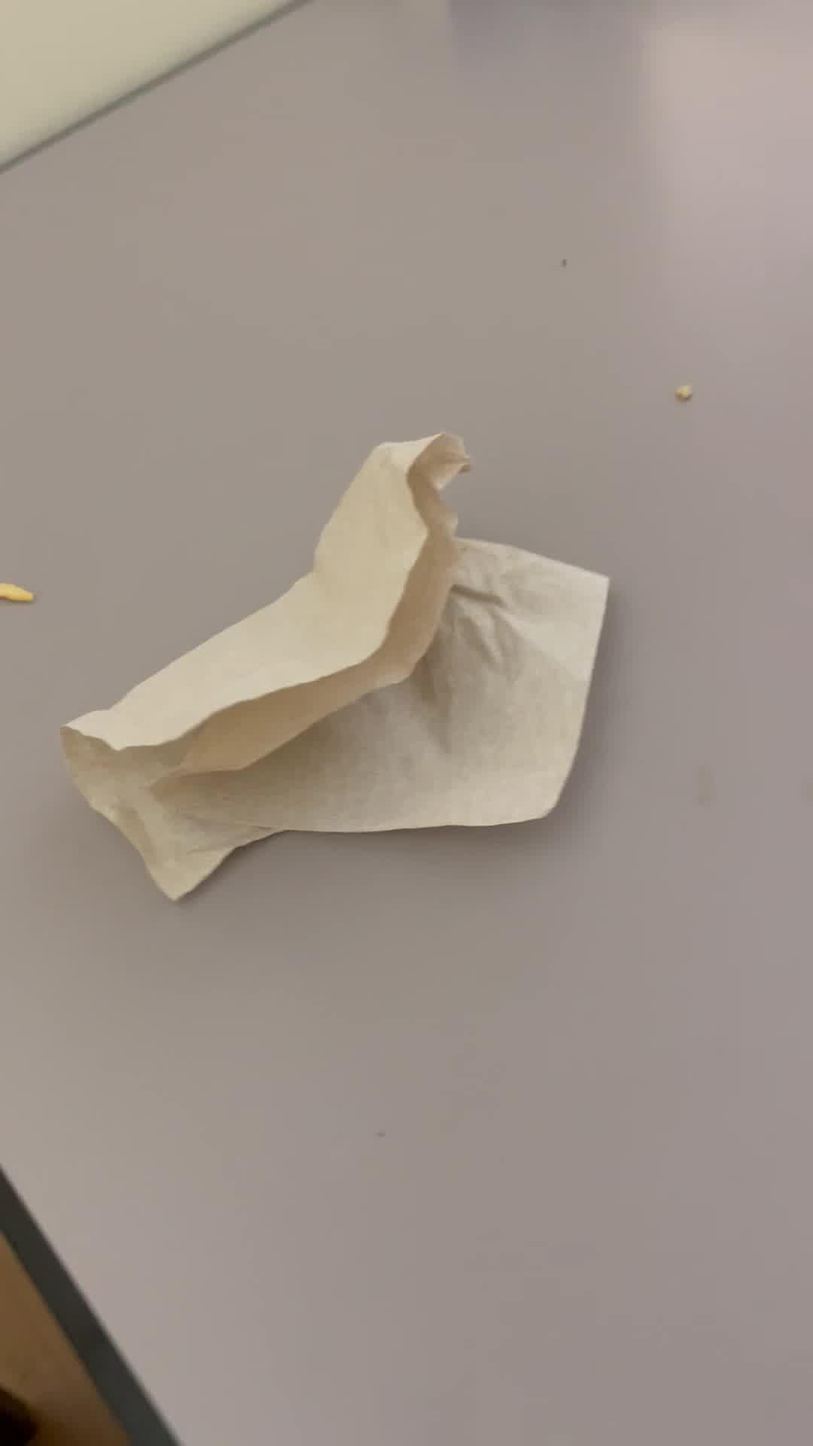napkin: (0, 400, 673, 922)
